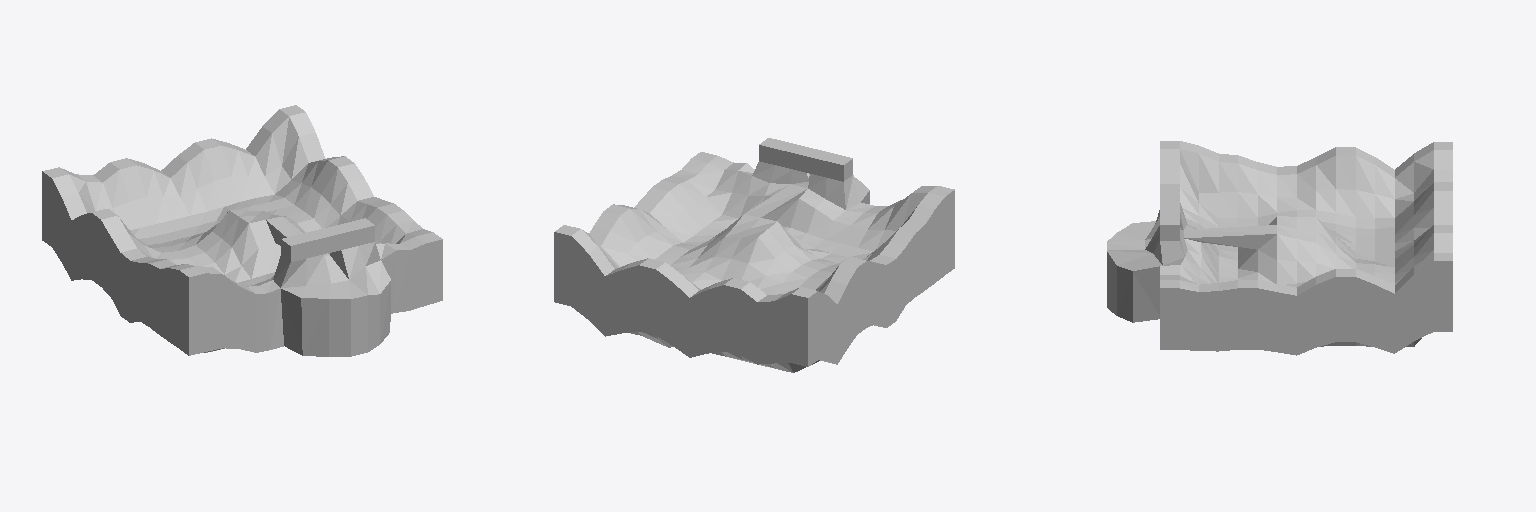
File: TerrainV2.obj
3 views of the same model, side by side, from view 1: azimuth 30°, elevation 25°; view 2: azimuth 150°, elevation 25°; view 3: azimuth 270°, elevation 25° (orthographic).
Visible parts, largest first — view 1: Box001; view 2: Box001; view 3: Box001.
Part boxes in pixels (x1,y1,x2,y2): Box001: (42, 105, 442, 356); Box001: (554, 138, 954, 372); Box001: (1107, 141, 1452, 355).
Size of the model in its own units: 492 by 222 by 581.